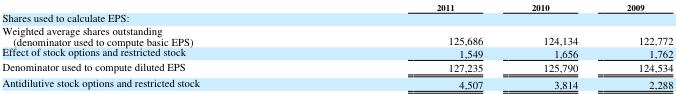table: (1, 0, 672, 90)
table column: (1, 0, 317, 90), (317, 0, 506, 90), (506, 0, 601, 90), (601, 0, 672, 90)
table column header: (1, 0, 672, 11)
table projected row header: (1, 11, 672, 23)
table row: (1, 23, 672, 45), (1, 74, 672, 90), (1, 59, 672, 74), (1, 45, 672, 59), (1, 11, 672, 23), (1, 0, 672, 11)
